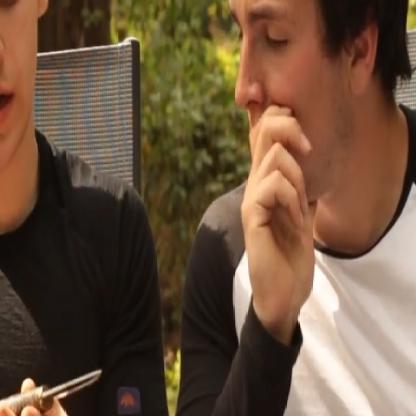knife: (0, 342, 119, 416)
